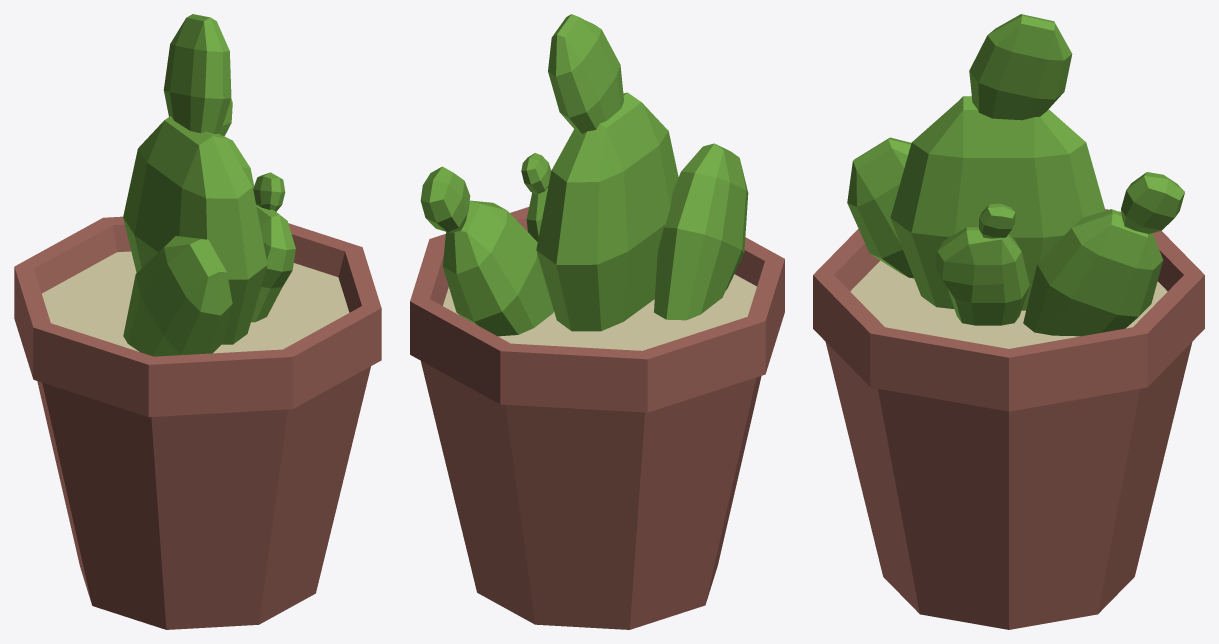
File: Little cactus 2.fbx
The picture shows the model from 3 angles, left to right: view 1: azimuth 30°, elevation 25°; view 2: azimuth 150°, elevation 25°; view 3: azimuth 270°, elevation 25°; orthographic projection. The views are drawn at different scales.
Visible parts, largest first — view 1: Little cactus; view 2: Little cactus; view 3: Little cactus.
Part boxes in pixels (<box>): Little cactus: <box>14,14,381,629</box>; Little cactus: <box>410,14,784,629</box>; Little cactus: <box>813,14,1204,629</box>.
Bounding box in the file's own units: 20.63 × 33.14 × 20.63.
